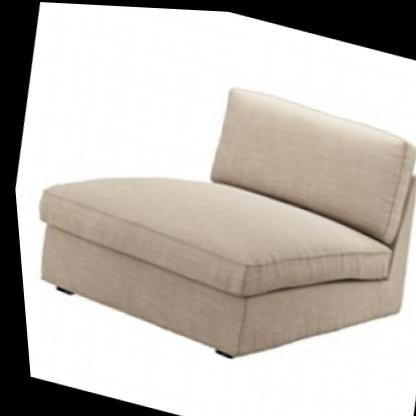Sofa: (2, 24, 416, 405)
